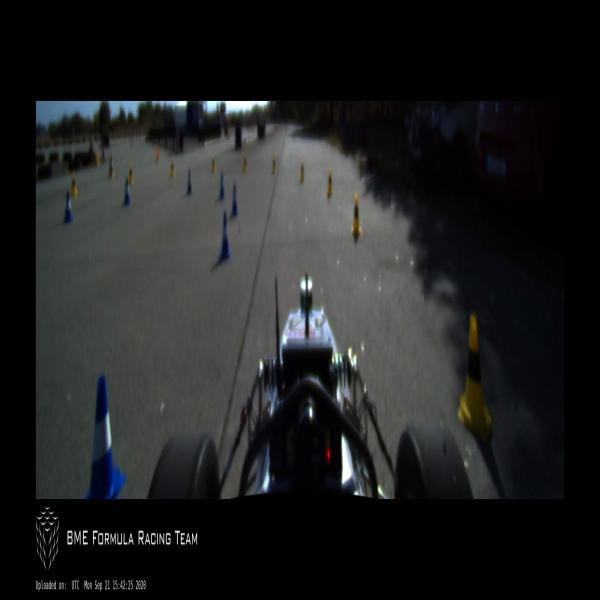blue_cone: (84, 374, 127, 498), (218, 212, 231, 263), (230, 183, 239, 218), (64, 190, 72, 222), (218, 172, 225, 200), (123, 178, 130, 206), (186, 170, 192, 196)
yellow_cone: (457, 314, 492, 442), (351, 192, 362, 235), (327, 167, 333, 196), (70, 173, 77, 196), (128, 163, 133, 183), (242, 153, 247, 172), (300, 158, 304, 180), (272, 154, 276, 174), (170, 158, 174, 177), (211, 156, 215, 173)
